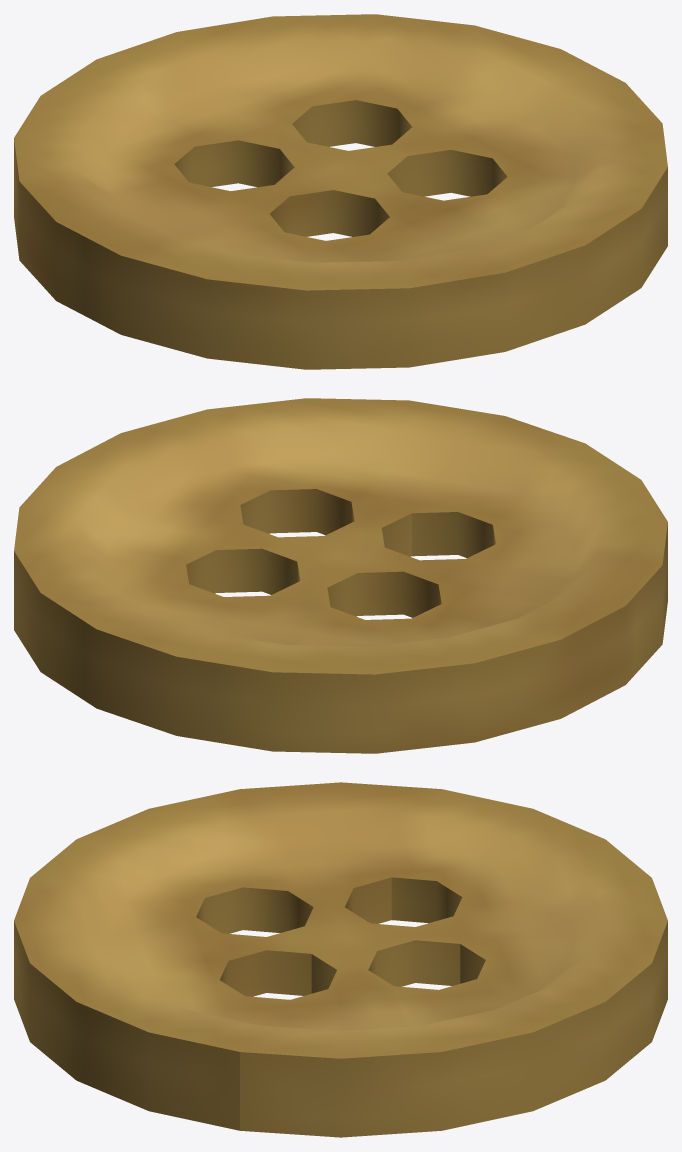
The model's file is SM_Farm_Button_03.fbx.
3 renders of one model, top to bottom at view 1: azimuth 30°, elevation 25°; view 2: azimuth 150°, elevation 25°; view 3: azimuth 270°, elevation 25°, orthographic.
Parts seen in each view (by area): view 1: SM_Farm_Button_03_LOD0; view 2: SM_Farm_Button_03_LOD0; view 3: SM_Farm_Button_03_LOD0.
Part boxes in pixels (x1,y1,x2,y2): SM_Farm_Button_03_LOD0: [14, 14, 667, 369]; SM_Farm_Button_03_LOD0: [14, 398, 667, 753]; SM_Farm_Button_03_LOD0: [14, 782, 667, 1137].
Size of the model in its own units: 5.88 by 0.7813 by 5.88.
